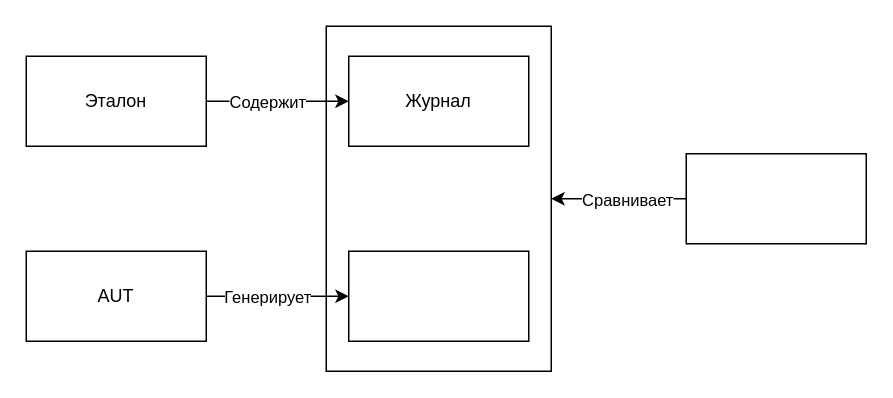
This 893x398 diagram has some shape labels left out. Each missing label, with the box of its shape:
Журнал': (347, 250, 529, 341)
Тест: (685, 152, 866, 244)
